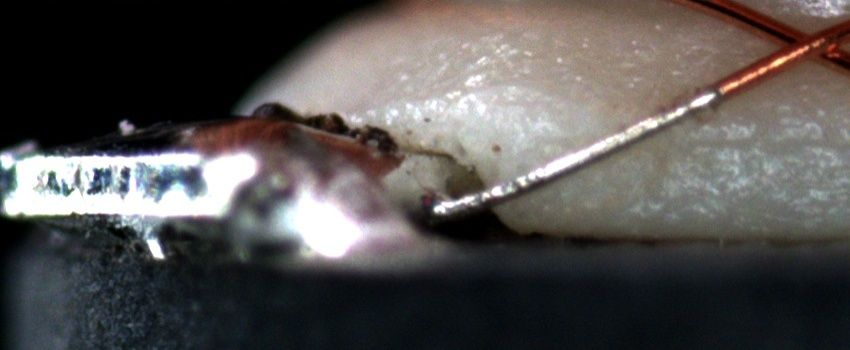CL: (756, 15, 845, 73)
DL: (687, 111, 850, 174)
TS: (435, 86, 721, 215)
